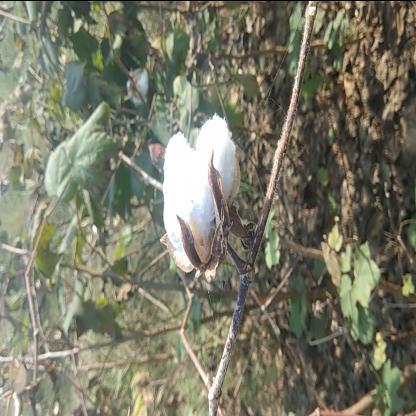cotton_ready: (157, 100, 271, 282)
